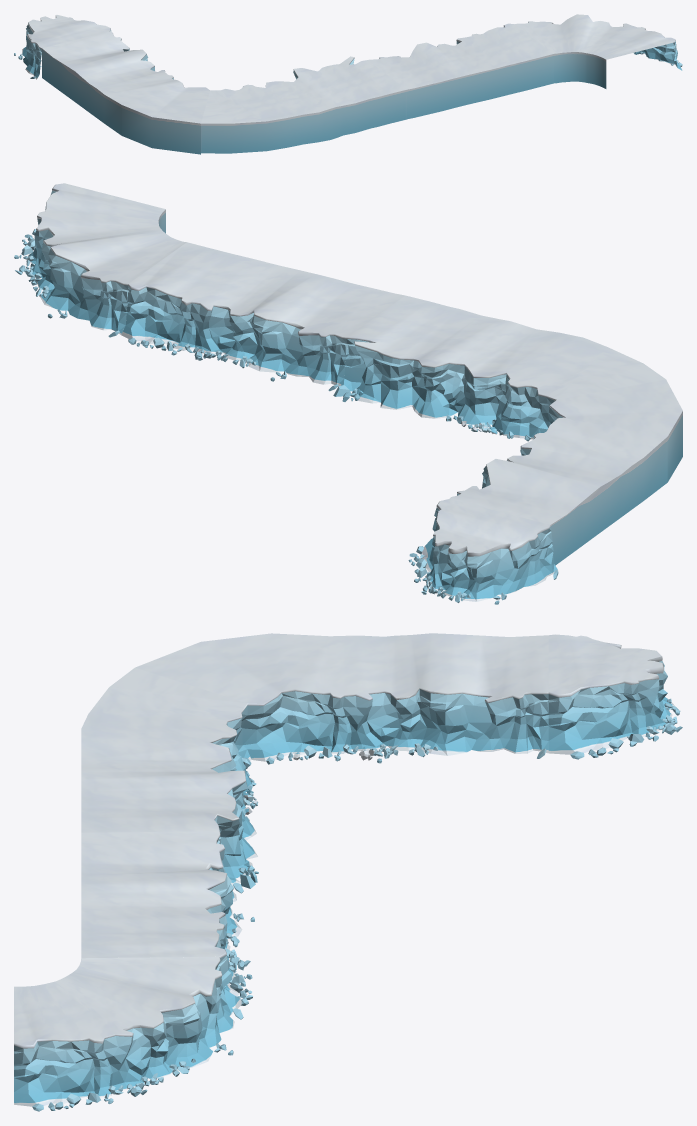
File: wall.FBX
3 renders of one model, top to bottom at view 1: azimuth 30°, elevation 25°; view 2: azimuth 150°, elevation 25°; view 3: azimuth 270°, elevation 25°, orthographic. The views are drawn at different scales.
Parts seen in each view (by area): view 1: wall_02, wall_01, wall_04, wall_05; view 2: wall_02, wall_01, wall_04, wall_05; view 3: wall_02, wall_04, wall_01, wall_05.
Part boxes in pixels (left/top/right/bottom): wall_02: left=42, top=31, right=406, bottom=154; wall_01: left=368, top=23, right=553, bottom=119; wall_04: left=514, top=14, right=682, bottom=88; wall_05: left=14, top=15, right=111, bottom=79; wall_02: left=333, top=295, right=682, bottom=565; wall_01: left=121, top=242, right=404, bottom=391; wall_04: left=14, top=183, right=186, bottom=337; wall_05: left=408, top=499, right=558, bottom=604; wall_02: left=81, top=633, right=548, bottom=888; wall_04: left=14, top=956, right=243, bottom=1111; wall_01: left=81, top=831, right=254, bottom=1009; wall_05: left=548, top=634, right=682, bottom=759.
Bounding box in the file's own units: 102659 × 7237 × 67616.
